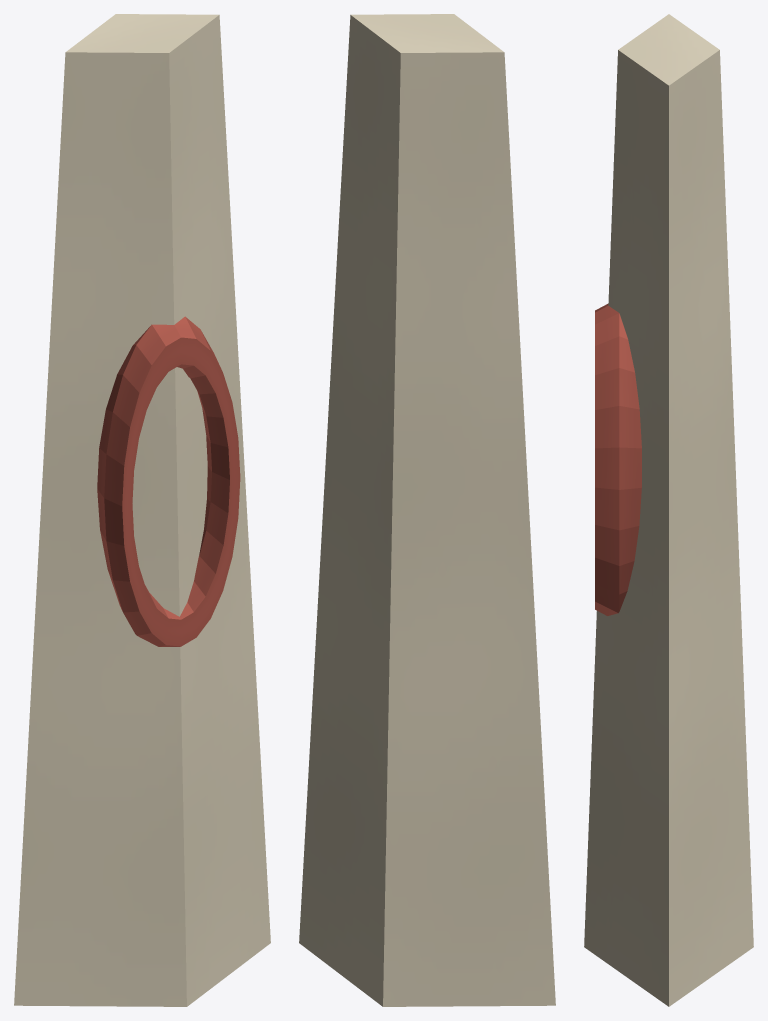
Rendered from atlas100-s033-a05.glb.
3 views of the same model, side by side, from view 1: azimuth 30°, elevation 25°; view 2: azimuth 150°, elevation 25°; view 3: azimuth 270°, elevation 25° (orthographic). The views are drawn at different scales.
Parts seen in each view (by area): view 1: atlas100-s033-a05:part-000, atlas100-s033-a05:part-001; view 2: atlas100-s033-a05:part-000; view 3: atlas100-s033-a05:part-000, atlas100-s033-a05:part-001.
Boxes of the visible parts, x1,y1,x2,y2 form: atlas100-s033-a05:part-000: [14, 14, 270, 1006]; atlas100-s033-a05:part-001: [97, 316, 240, 646]; atlas100-s033-a05:part-000: [299, 14, 555, 1006]; atlas100-s033-a05:part-000: [584, 14, 753, 1006]; atlas100-s033-a05:part-001: [595, 304, 641, 615].
Size of the model in its own units: 0.2184 by 0.7644 by 0.131.
Materials: 2 (2 with a texture image).
